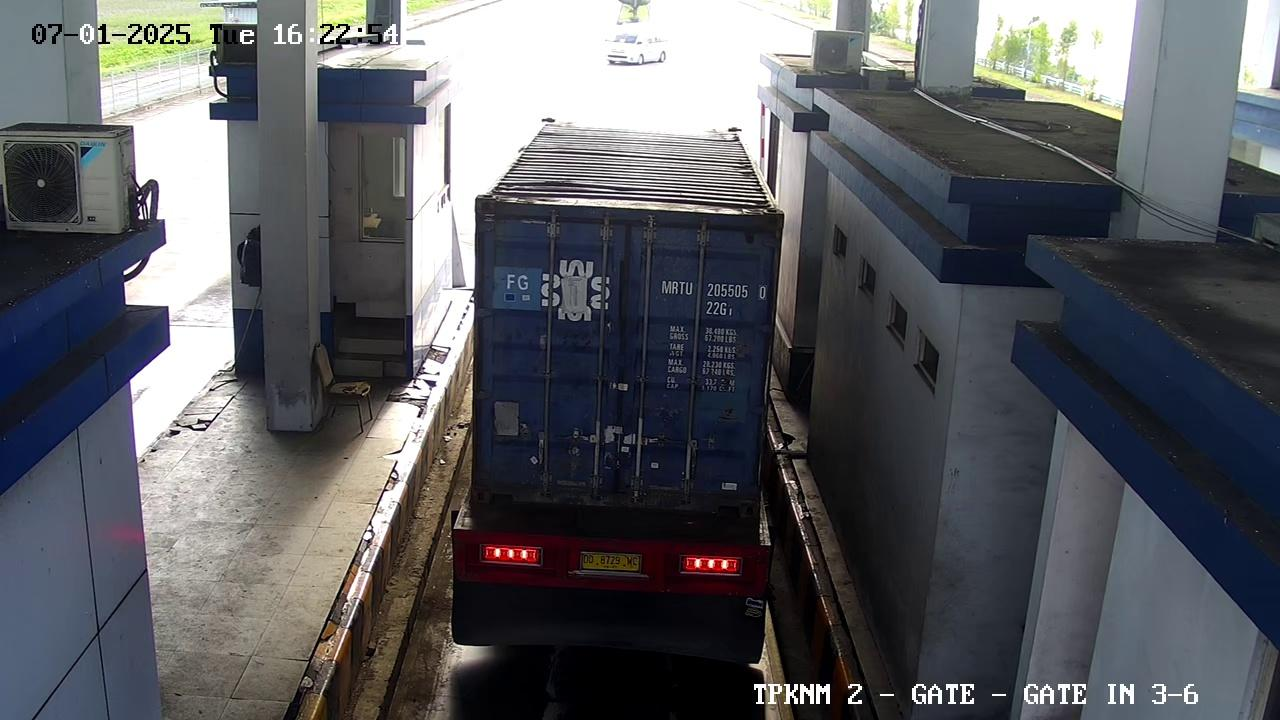Container_ID: (654, 273, 779, 300)
plate_number: (575, 535, 655, 583)
